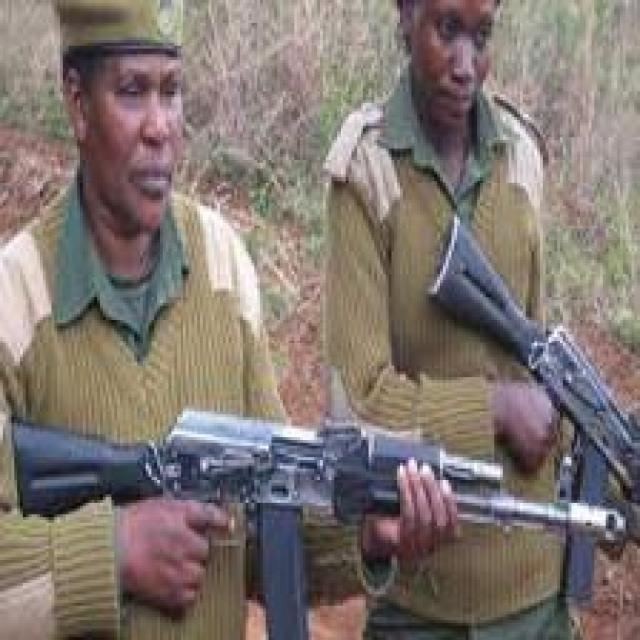Rifle: (7, 377, 582, 592), (417, 213, 640, 481)
